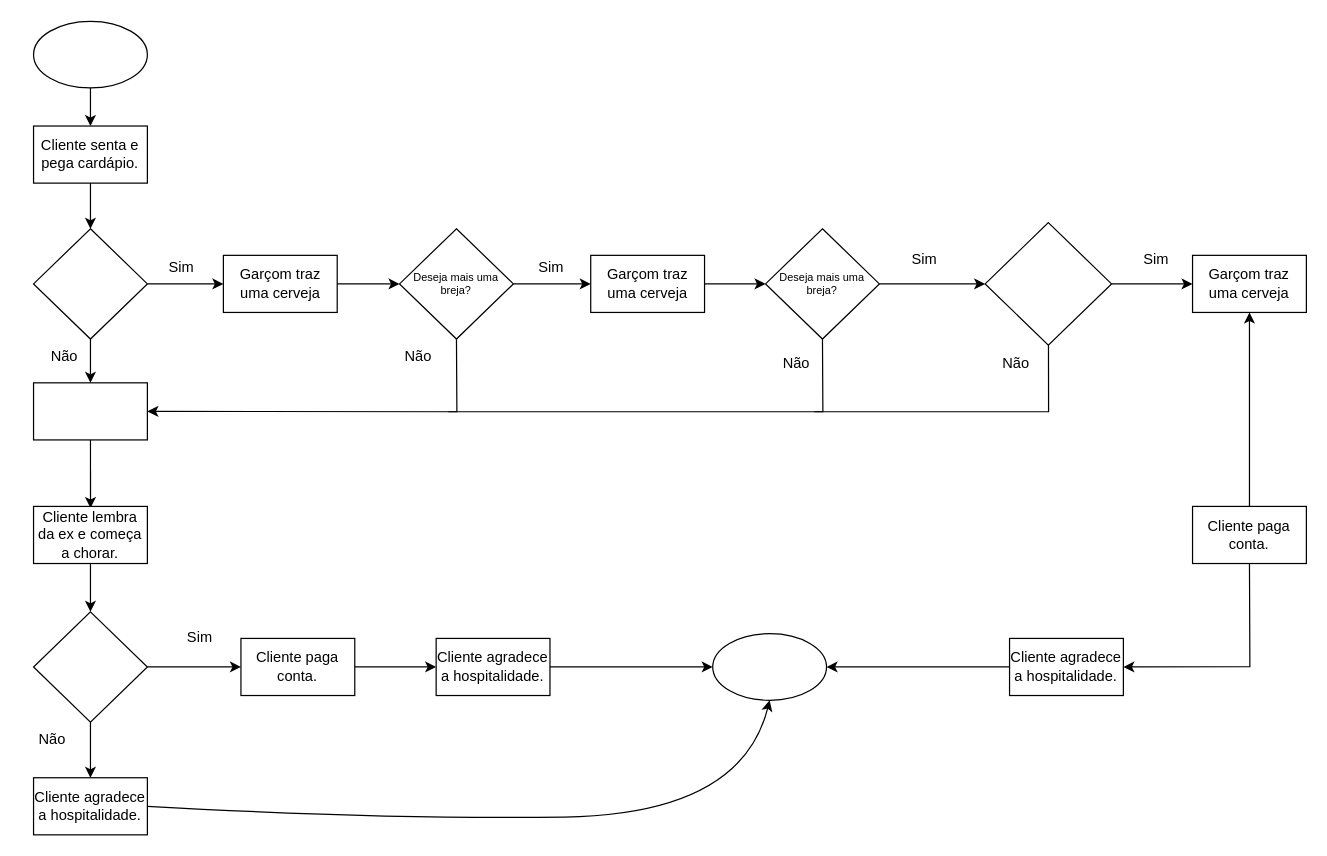
The diagram is 1327 pixels wide and 856 high, and some of its shapes have lost their labels. Here are the shapes that lost their labels. From the top down, the centre of each, then its label:
At pixel 89 54: "Cliente entra no bar".
At pixel 89 283: "Deseja pedir uma cervejinha?".
At pixel 1048 283: "Está tudo bem com o cliente?".
At pixel 89 411: "Cliente começa a pensar na vida.".
At pixel 89 666: "Cliente pegou cerveja?".
At pixel 769 666: "Cliente sai do bar.".
